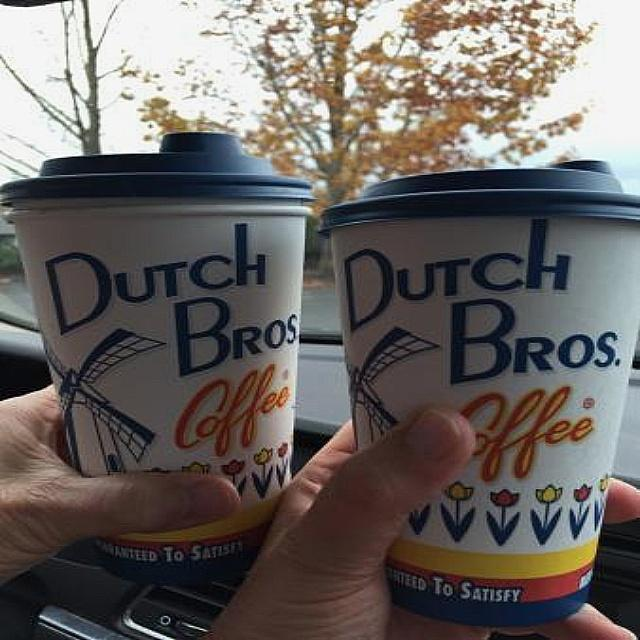paper_cup: (322, 158, 640, 626), (4, 132, 314, 580)
